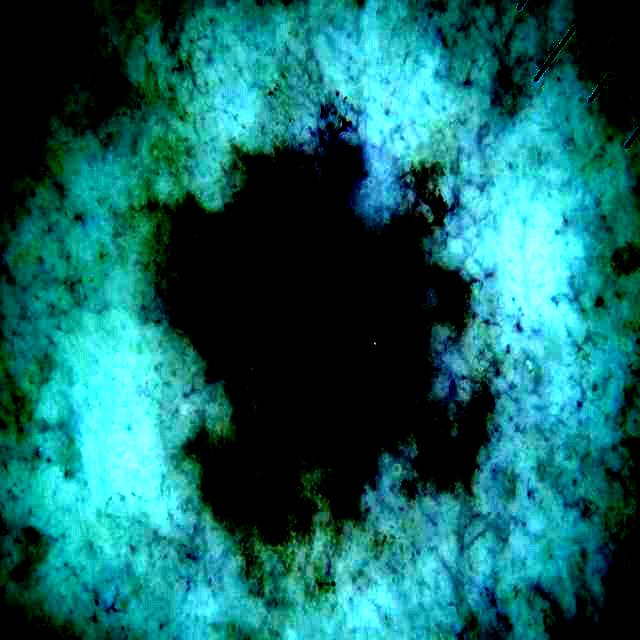MEL: (174, 97, 492, 543)
